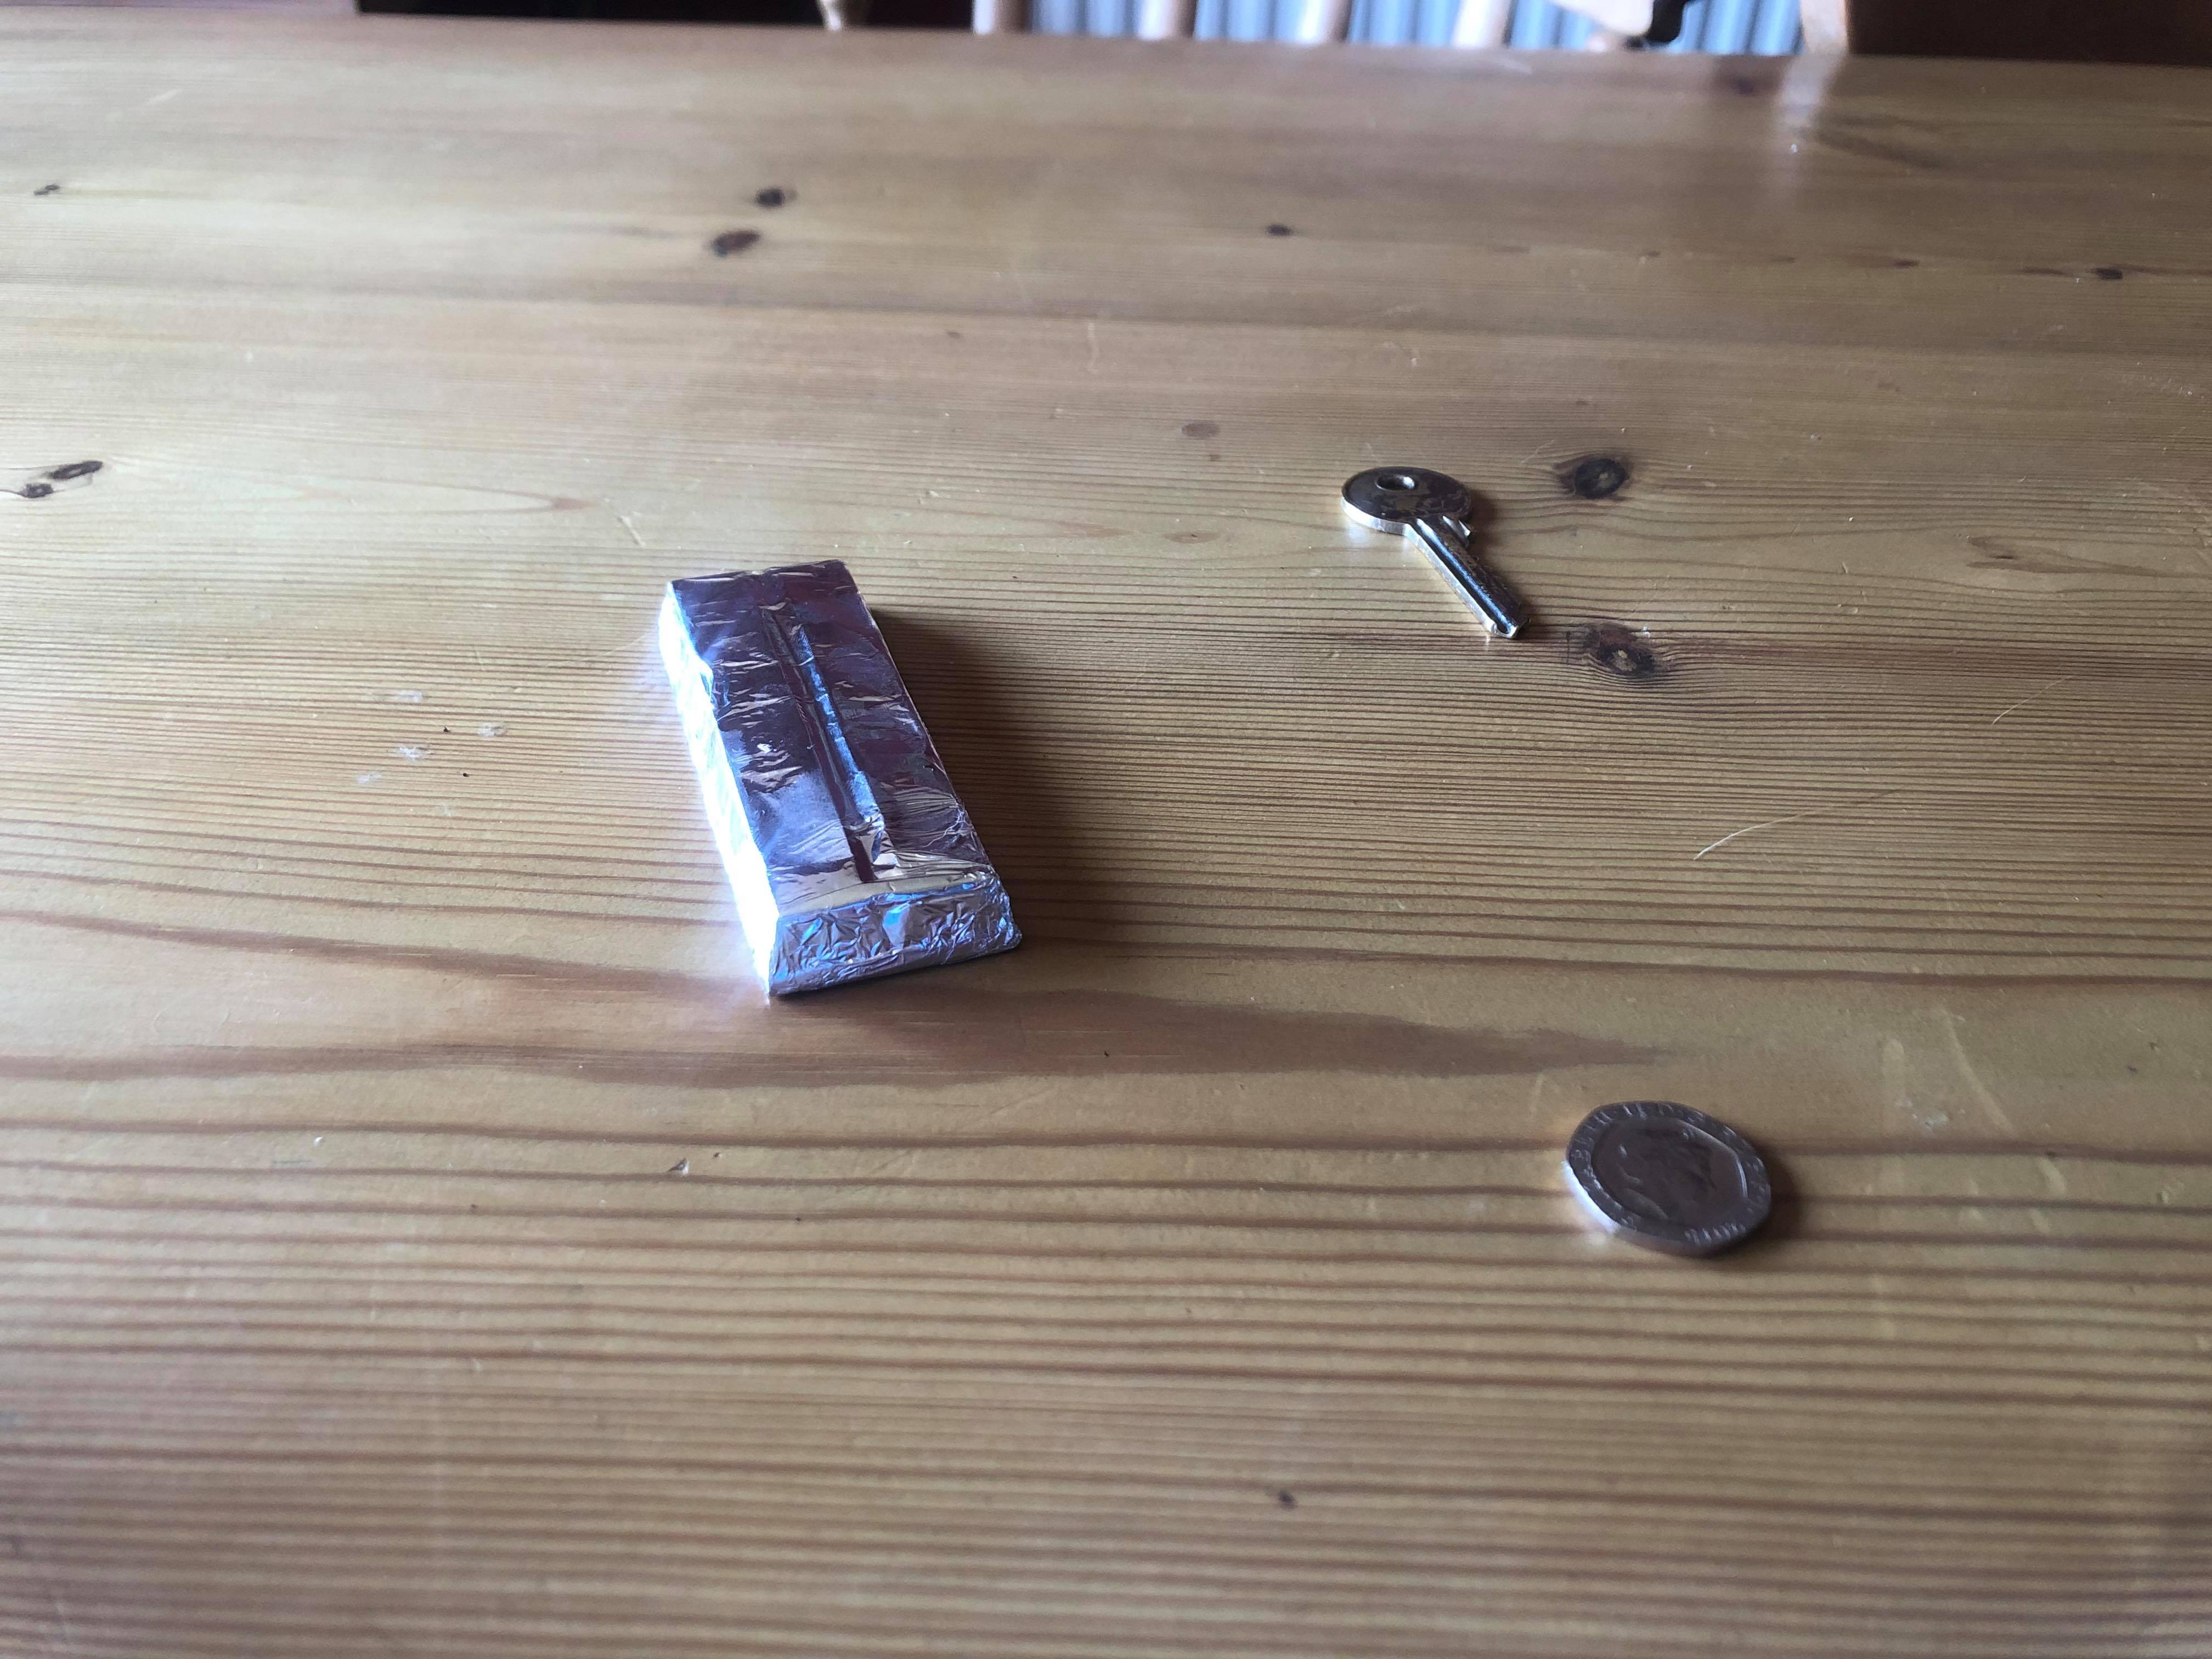Coin: (1557, 1094, 1780, 1265)
Foil: (644, 559, 1026, 1009)
Key: (1325, 460, 1534, 653)
